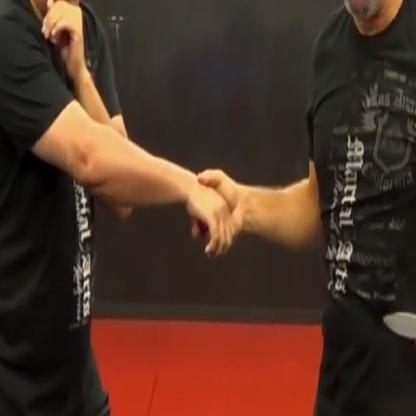knife: (377, 302, 415, 374)
